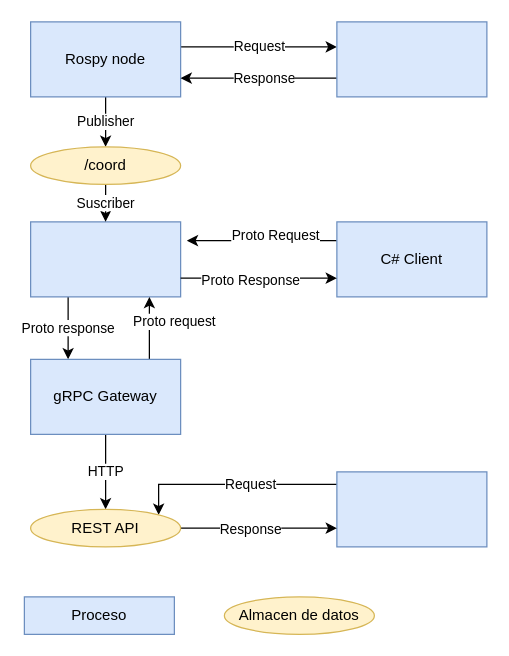
Some shapes in this 509 by 656 pixel diagram are drawn without their labels. The centre of each missing label's shape, as x and y in pixels:
"C++ Library" belongs at point (411, 59).
"gRPC Server" belongs at point (105, 259).
"HTTP Client (Postman)" belongs at point (411, 509).
